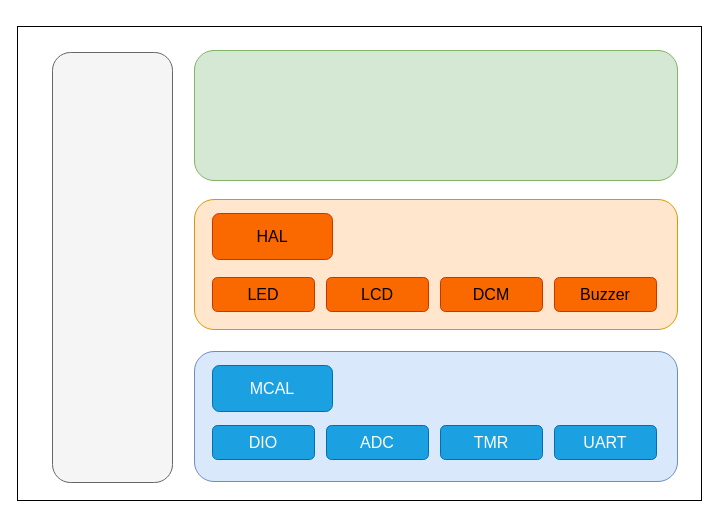
Some shapes in this 719 by 518 pixel diagram are drawn without their labels. The centre of each missing label's shape, as x and y in pixels:
"Application Layer" goes at (436,115).
"Service Layer FreeRTOS" goes at (112,267).
